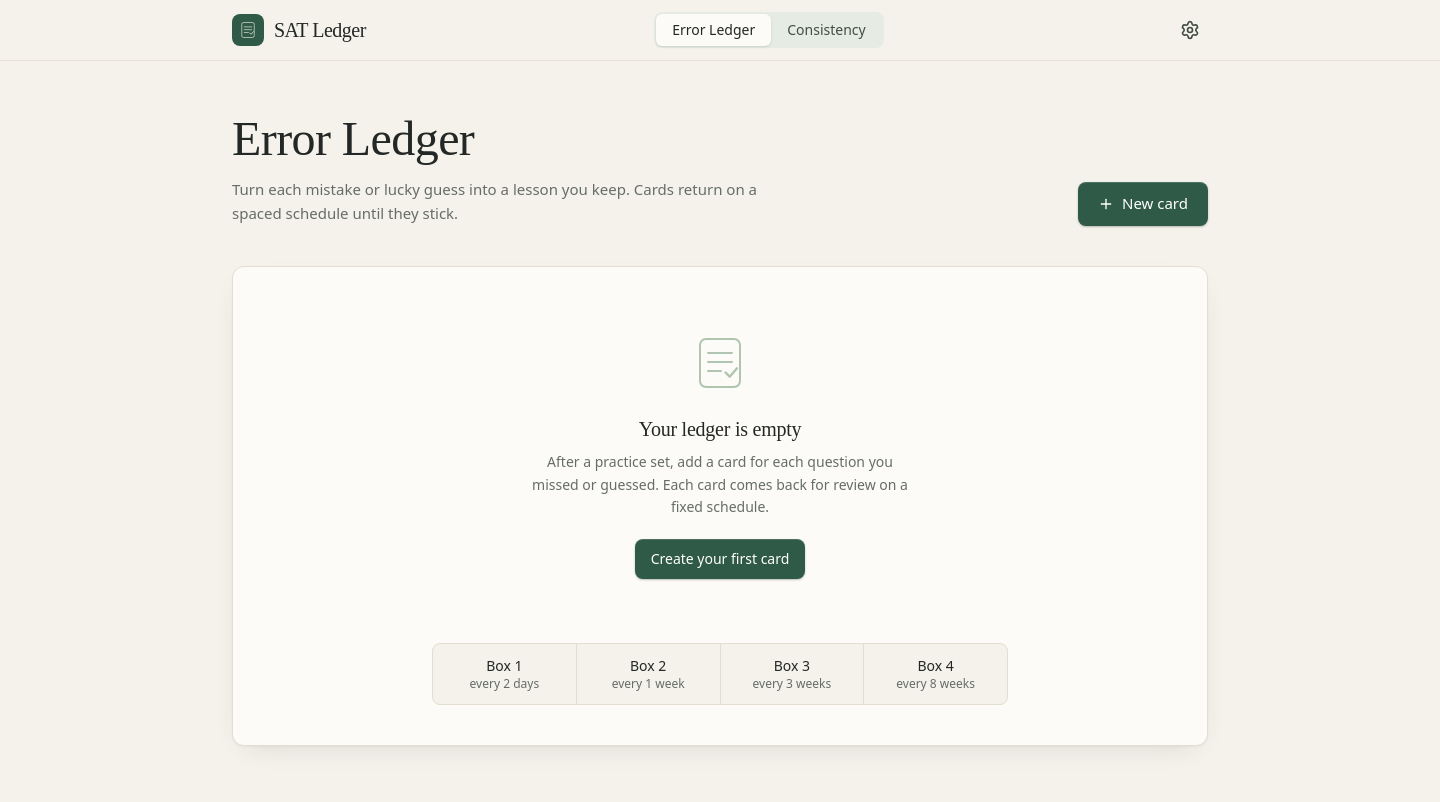
Test: Consistency › marks a planned session complete and updates sessions, minutes and completion
Click the tab "Consistency" at (826,30), box x1=771 y1=14 x2=882 y2=46
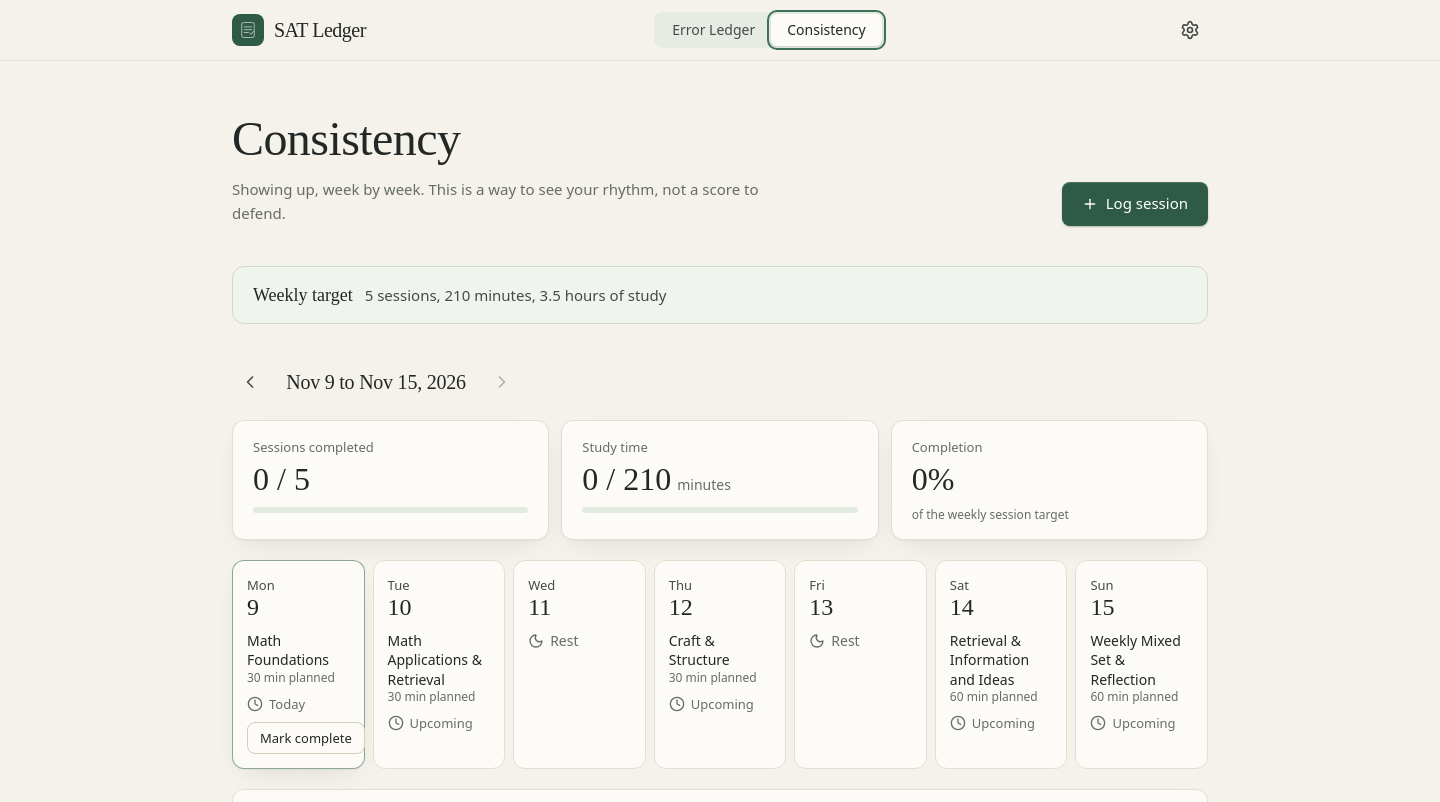
Check: the heading "Consistency" is shown, box x1=232 y1=112 x2=460 y2=165
Check: the text "0 / 5" is shown, box x1=253 y1=459 x2=310 y2=499
Click the button with aria-label "Mark Math Foundations complete" at (306,738), box x1=247 y1=722 x2=365 y2=754
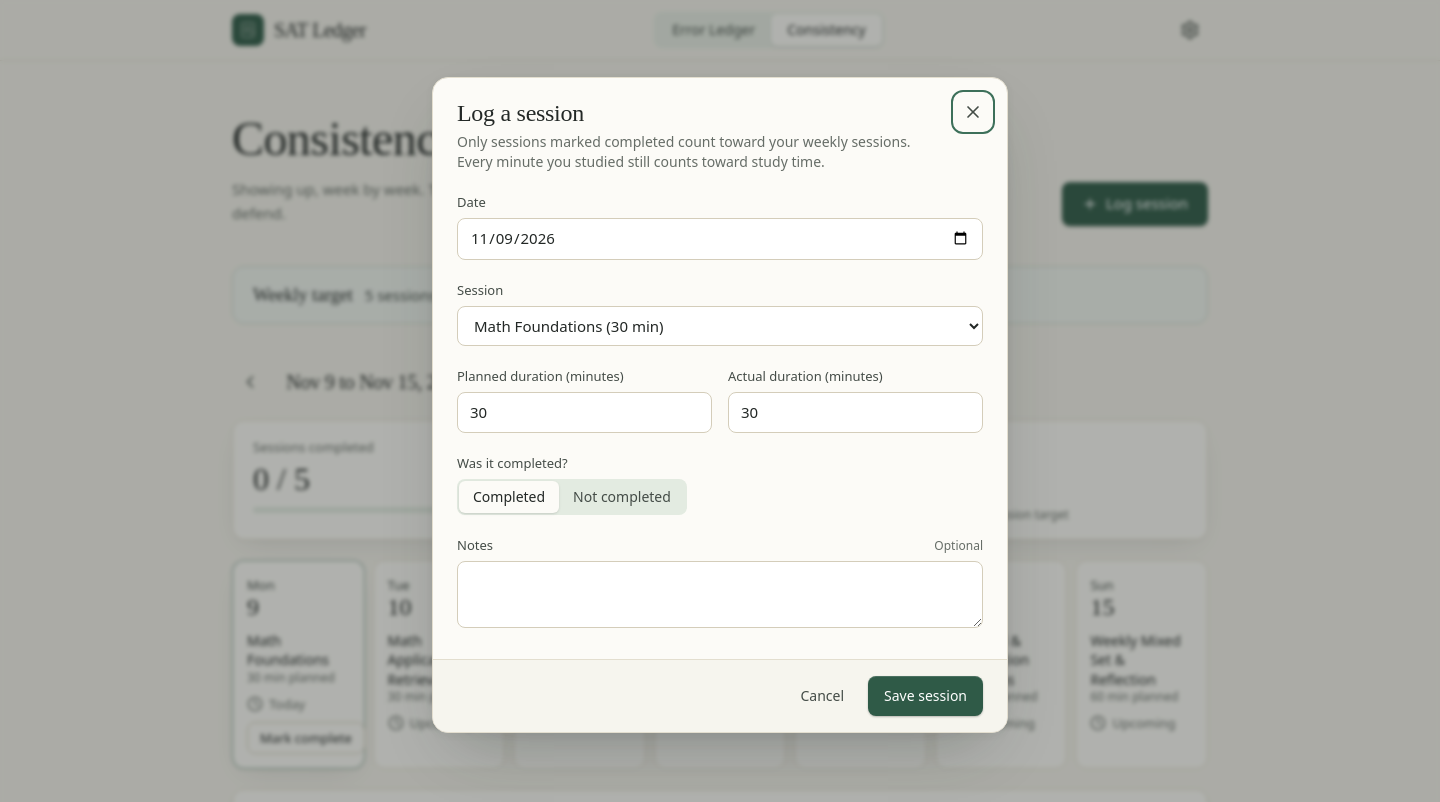
Check: the date field labelled "Date" holds "2026-11-09", box x1=457 y1=218 x2=983 y2=260
Check: the number field labelled "Actual duration (minutes)" holds "30", box x1=728 y1=392 x2=983 y2=433
Click the button "Save session" at (926,696), box x1=868 y1=676 x2=983 y2=716
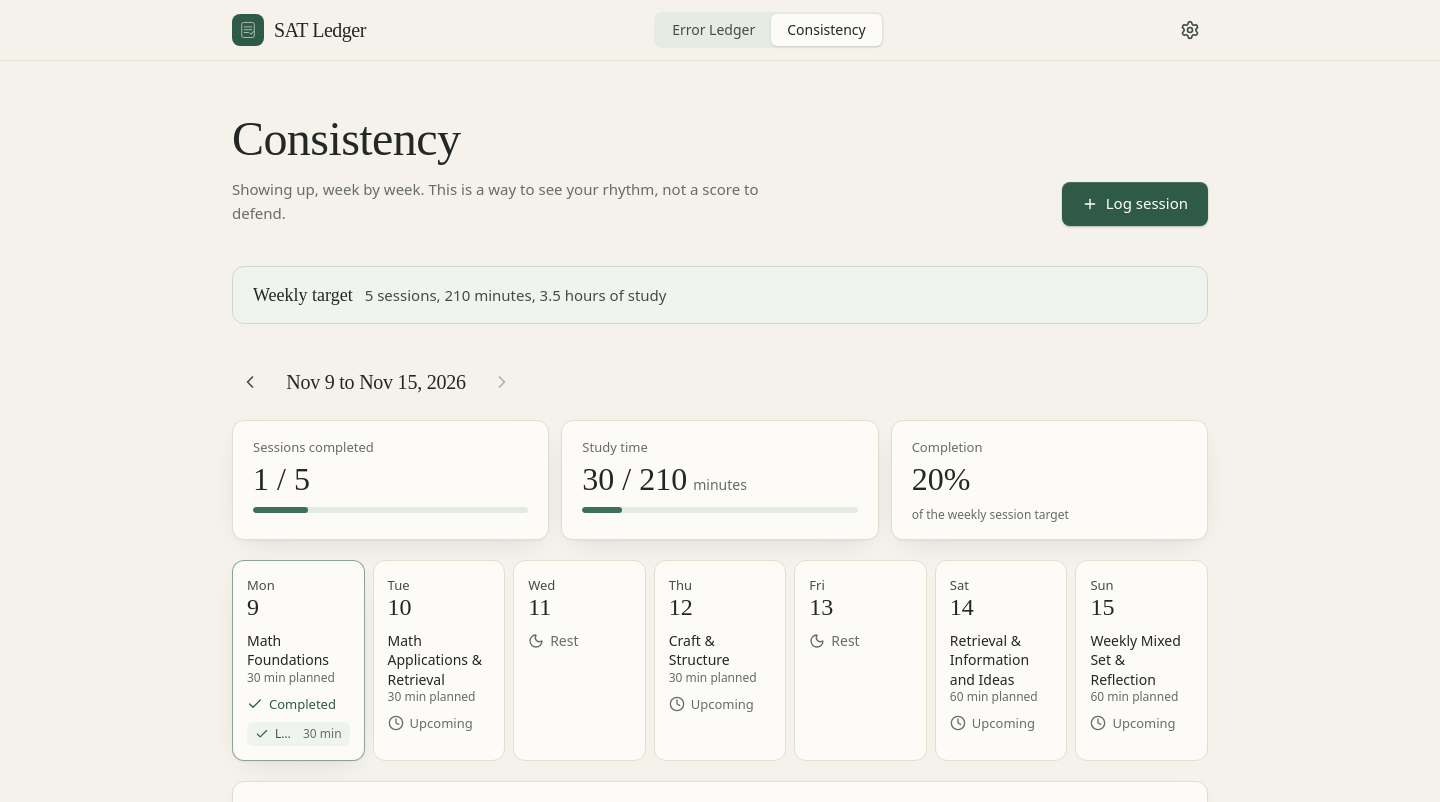
Check: the text "1 / 5" is shown, box x1=253 y1=459 x2=310 y2=499
Check: the text "30 / 210" is shown, box x1=582 y1=459 x2=687 y2=499
Check: the text "20%" is shown, box x1=912 y1=459 x2=970 y2=499
